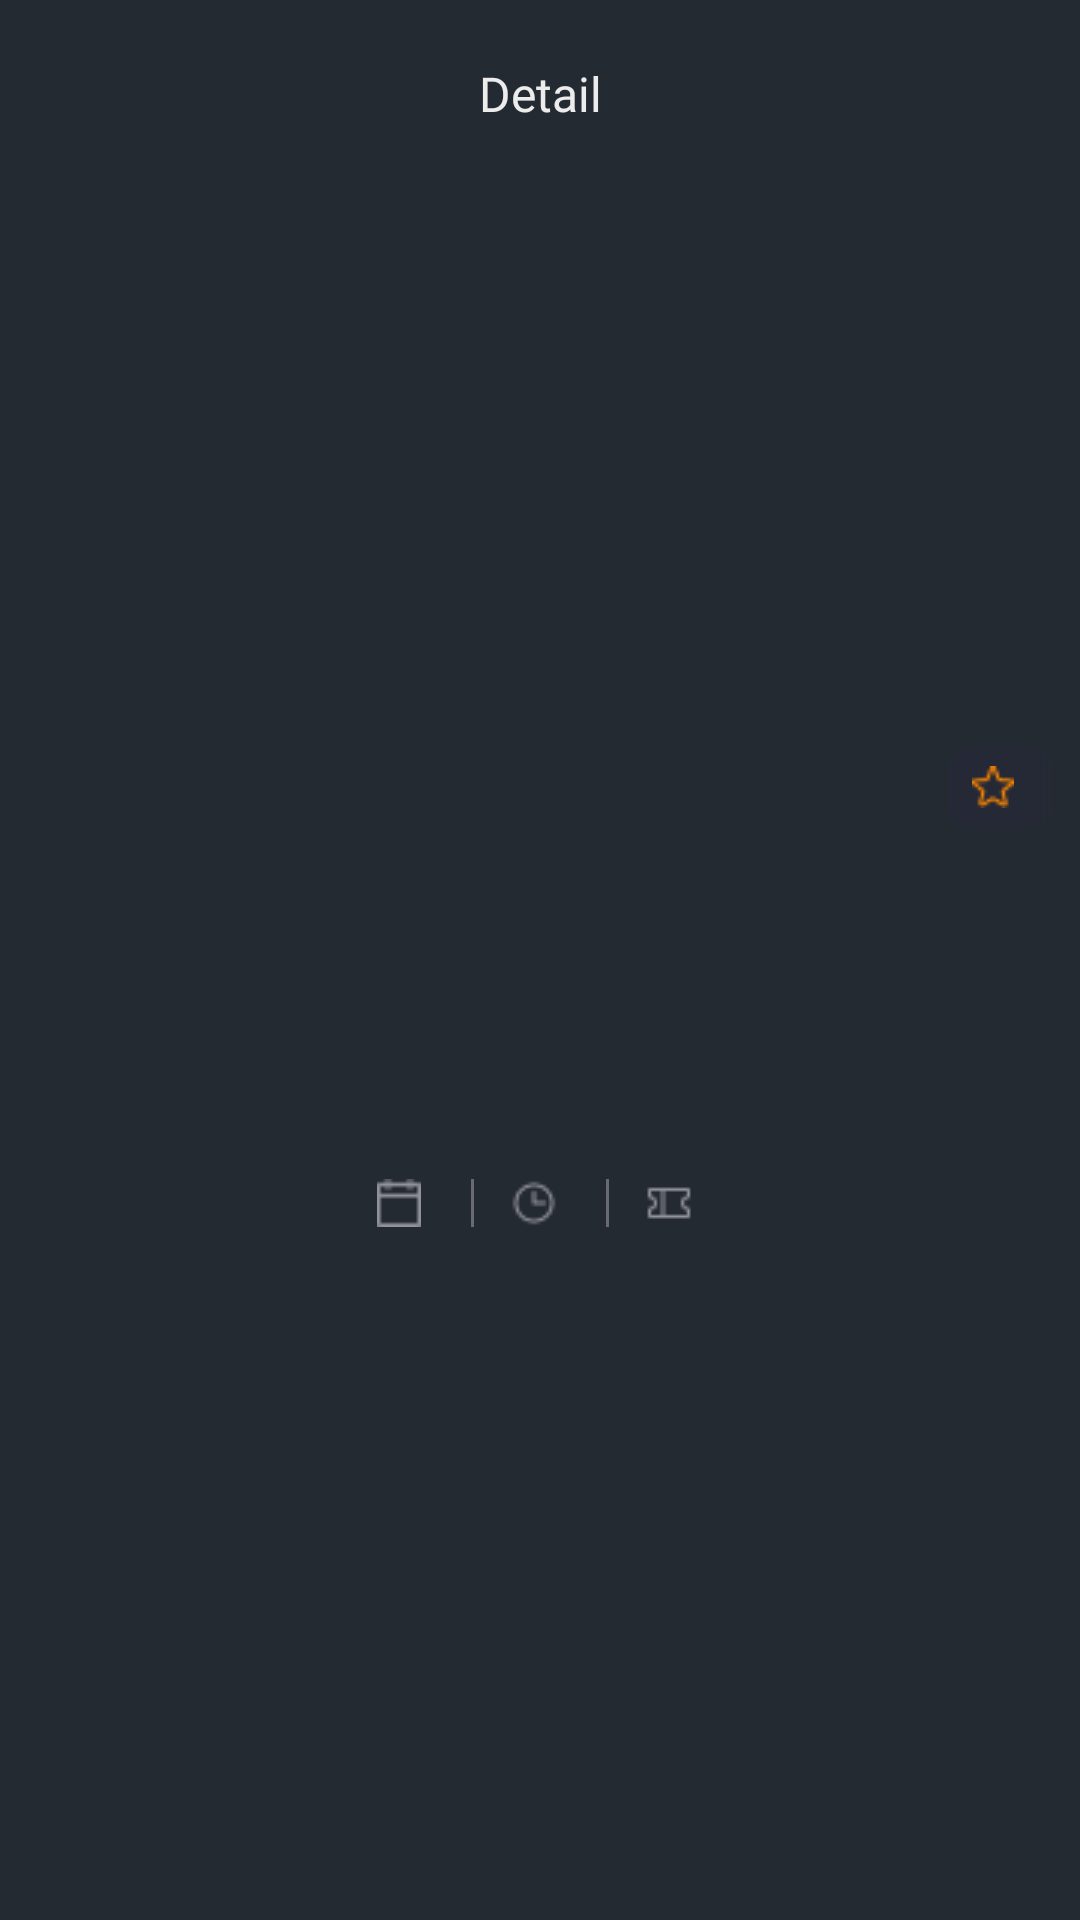

Named icons in this screenshot (1080px×1920px) and their centers, point (x, y):
detail genre: point (669, 1203)
detail release date: point (399, 1203)
detail time duration: point (534, 1203)
